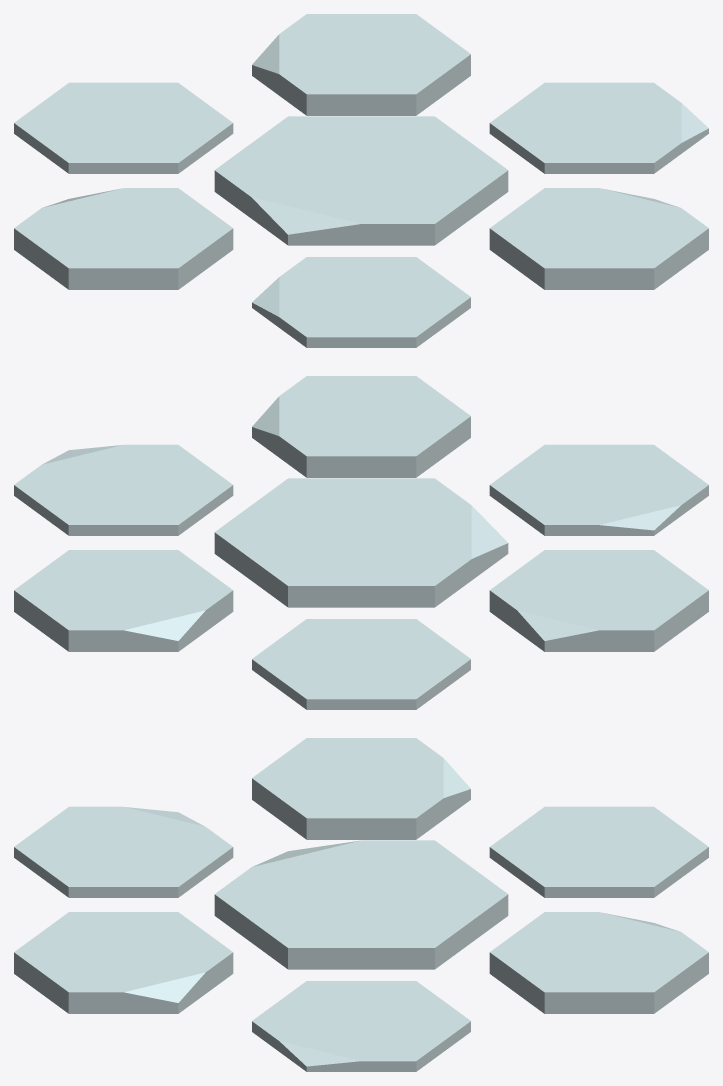
Rendered from path-stonecircle.gltf.
3 renders of one model, top to bottom at view 1: azimuth 30°, elevation 25°; view 2: azimuth 150°, elevation 25°; view 3: azimuth 270°, elevation 25°, orthographic.
Visible parts, largest first — view 1: path_stoneCircle; view 2: path_stoneCircle; view 3: path_stoneCircle.
Part boxes in pixels (x1,y1,x2,y2): path_stoneCircle: (14, 14, 708, 347); path_stoneCircle: (14, 376, 708, 709); path_stoneCircle: (14, 738, 708, 1071).
Bounding box in the file's own units: 1.86 × 0.06 × 1.75.
